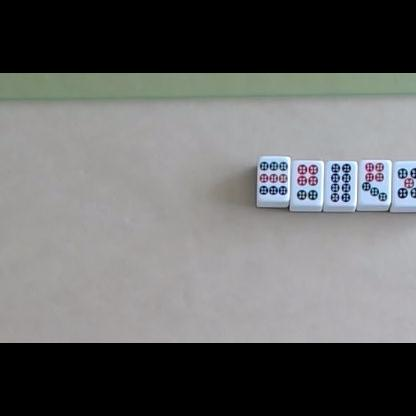5p: (397, 167, 416, 198)
6p: (296, 164, 319, 200)
7p: (362, 162, 388, 202)
8p: (330, 163, 352, 203)
9p: (259, 161, 288, 195)
